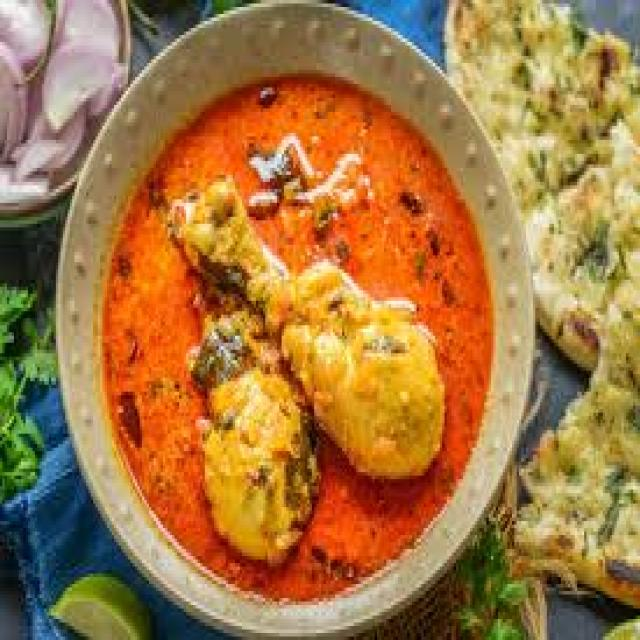Chicken Curry: (90, 84, 496, 608)
